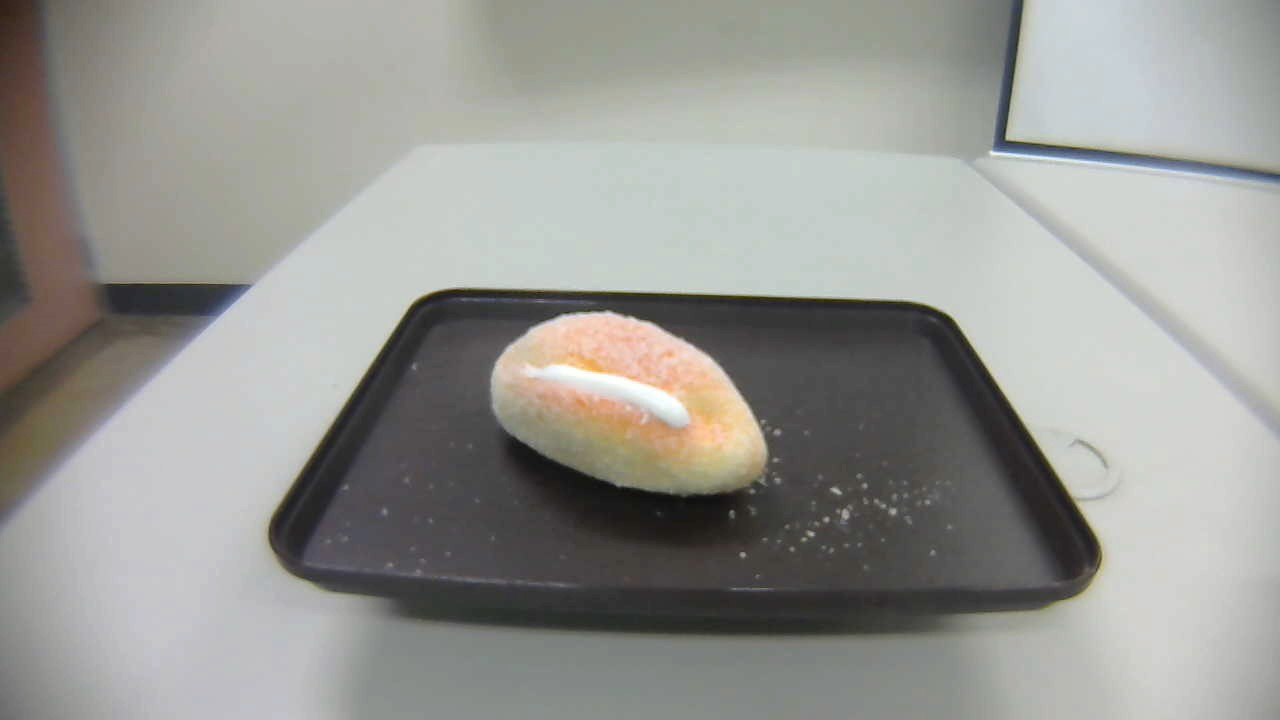coconut: (489, 308, 767, 499)
